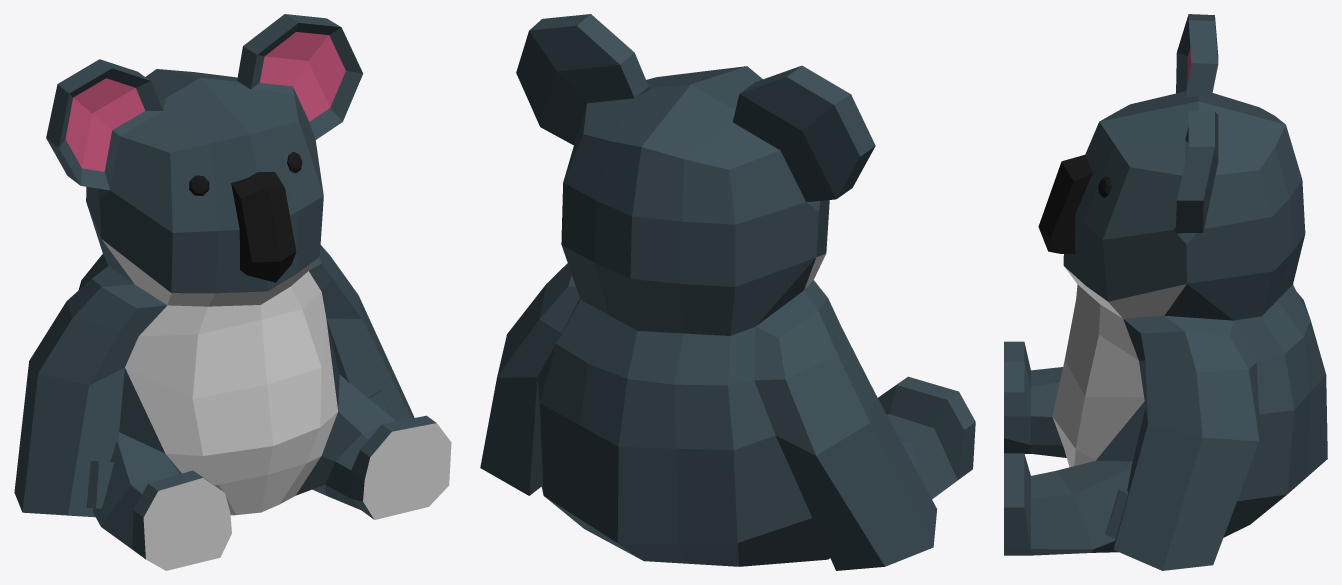
The model's file is Koala_01.fbx.
3 views of the same model, side by side, from view 1: azimuth 30°, elevation 25°; view 2: azimuth 150°, elevation 25°; view 3: azimuth 270°, elevation 25° (orthographic). The views are drawn at different scales.
Visible parts, largest first — view 1: Koala_01; view 2: Koala_01; view 3: Koala_01.
Boxes of the visible parts, bbox=[...] form: Koala_01: bbox=[14, 14, 451, 570]; Koala_01: bbox=[480, 14, 975, 570]; Koala_01: bbox=[1004, 14, 1327, 570].
Size of the model in its own units: 7.77 by 8.08 by 5.56.
